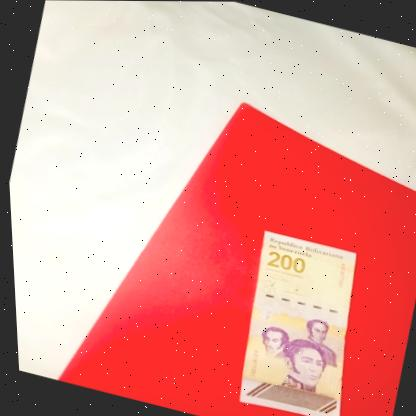vef_front: (219, 228, 376, 416)
